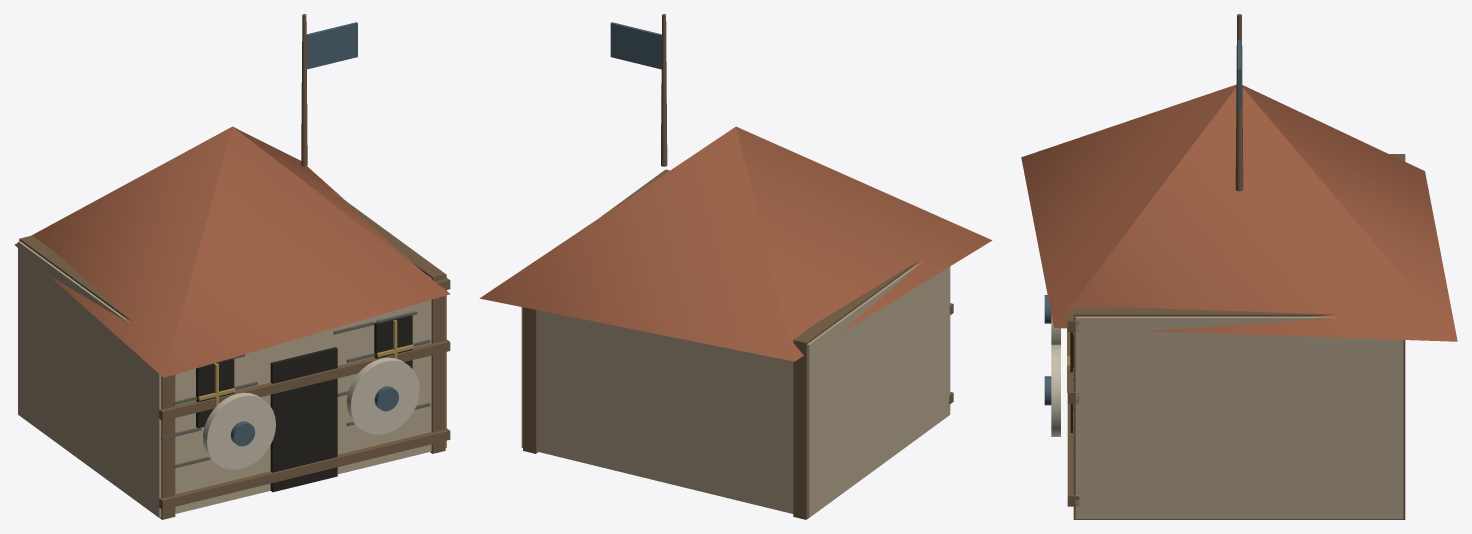
Rendered from b-range-castilian.glb.
3 views of the same model, side by side, from view 1: azimuth 30°, elevation 25°; view 2: azimuth 150°, elevation 25°; view 3: azimuth 270°, elevation 25° (orthographic). The views are drawn at different scales.
Parts seen in each view (by area): view 1: Structure; view 2: Structure; view 3: Structure.
Boxes of the visible parts, box(x1,y1,x2,y2) form: Structure: box(14, 14, 450, 519); Structure: box(479, 14, 992, 519); Structure: box(1021, 14, 1457, 519).
Bounding box in the file's own units: 4.53 × 5.33 × 4.53.
